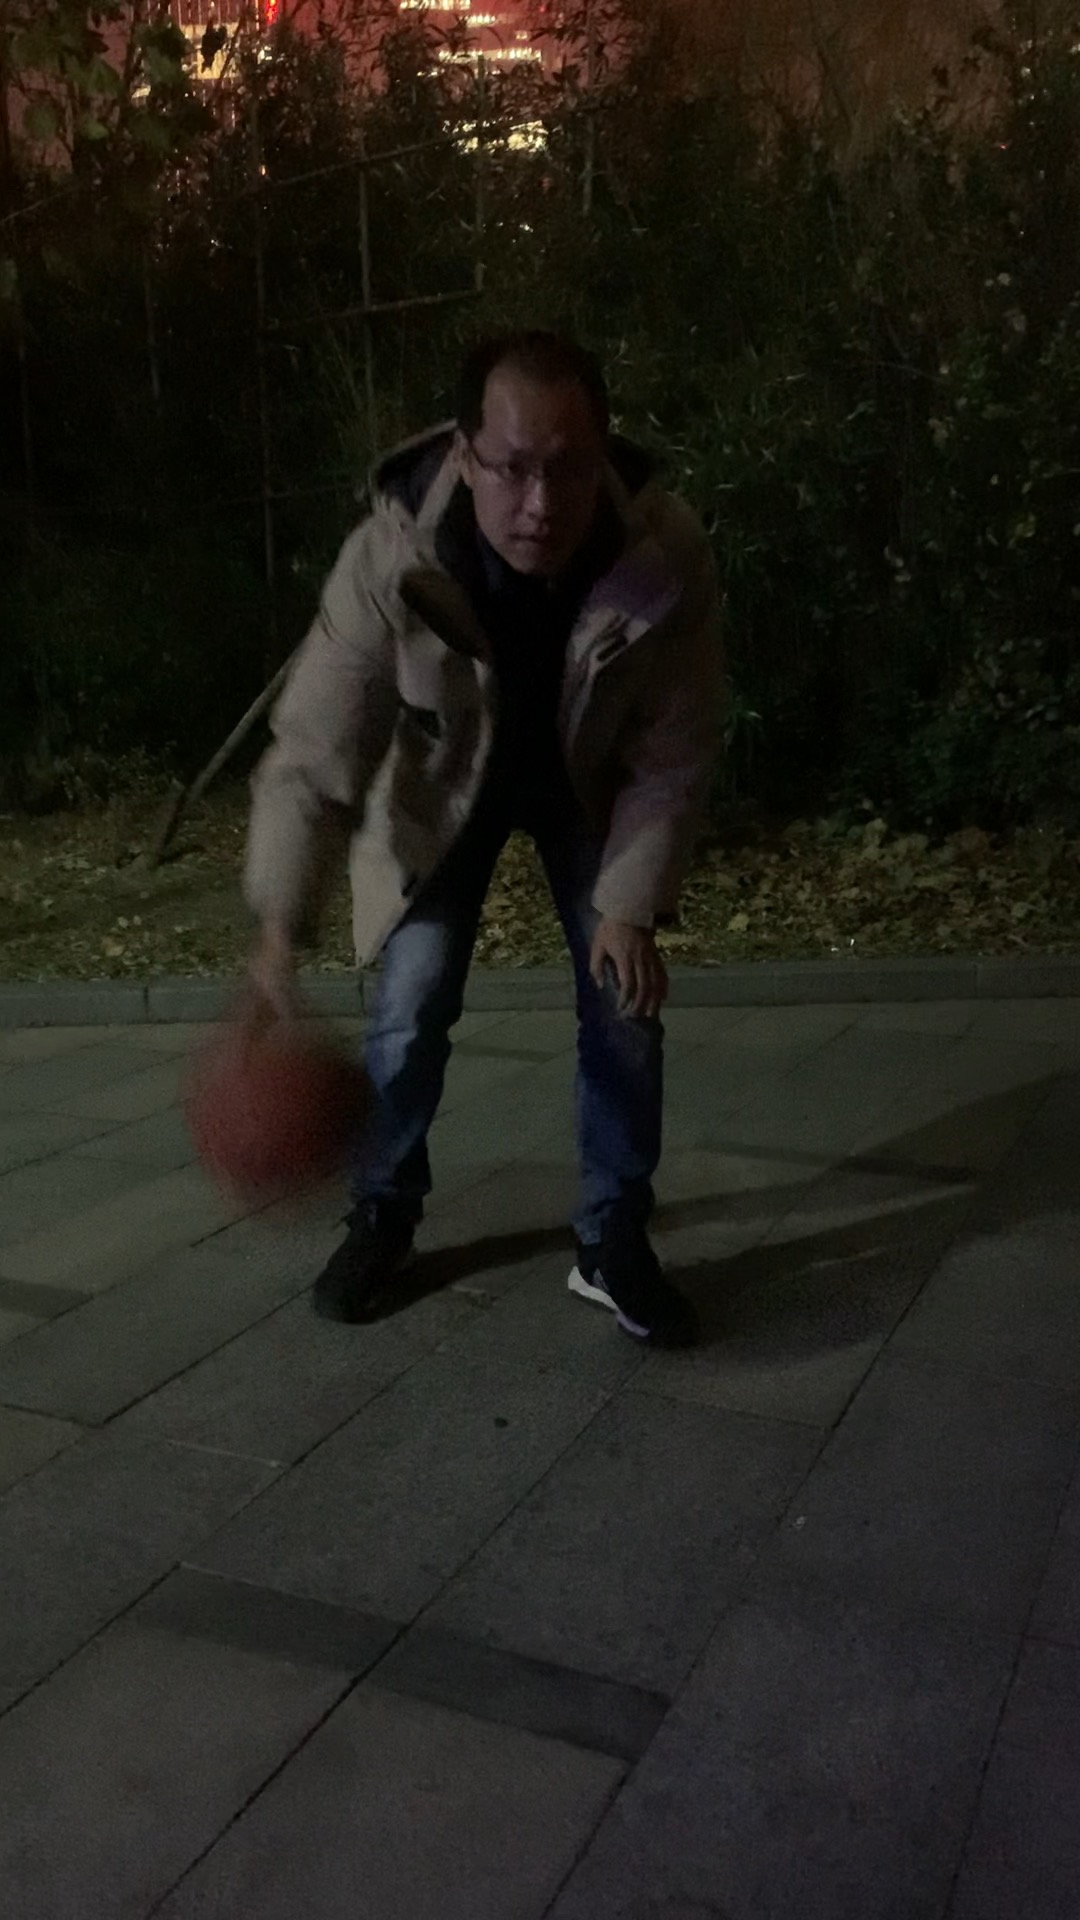ball: (195, 1014, 385, 1193)
